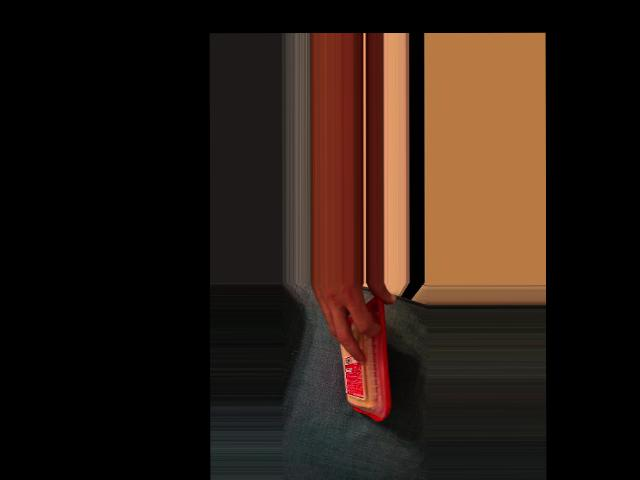cheese: (339, 294, 391, 423)
